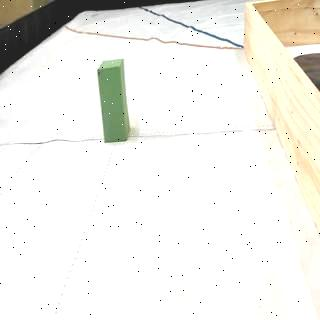greenbox: (98, 61, 129, 144)
